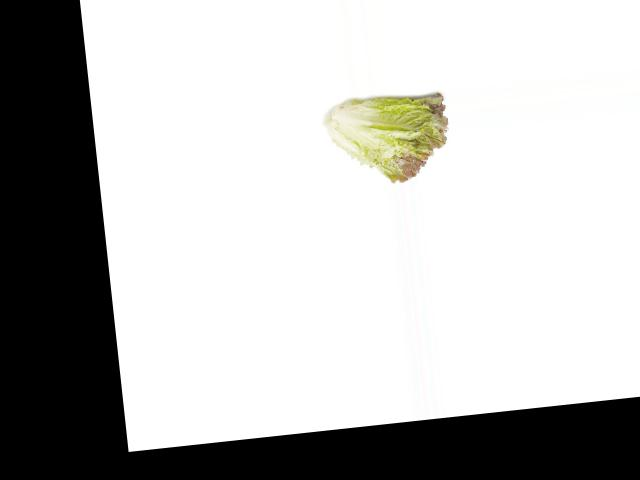lettuce: (323, 90, 456, 188)
